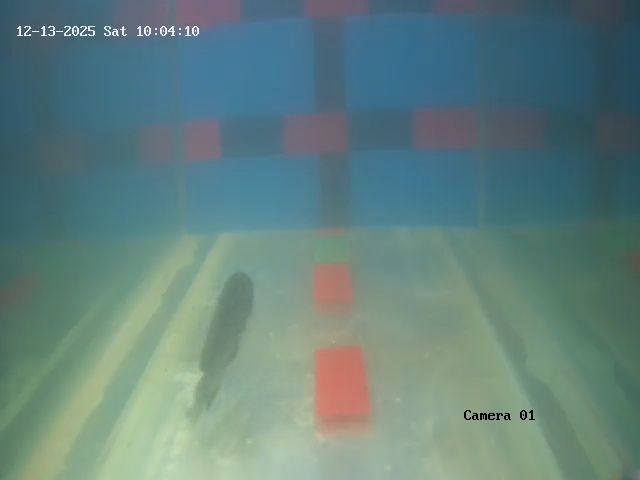fish: (203, 267, 256, 372)
